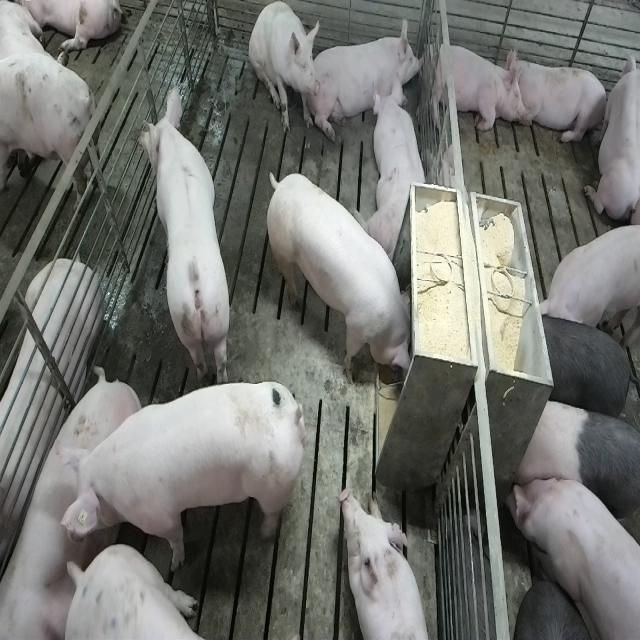Feeding: (271, 170, 421, 390)
Lateral_lying: (0, 367, 145, 640), (0, 256, 102, 582)
Sitting: (248, 2, 320, 138)
Standing: (64, 378, 309, 574), (138, 80, 232, 380), (503, 467, 638, 640), (513, 394, 638, 553), (0, 59, 104, 226), (54, 540, 228, 637), (533, 224, 637, 342), (533, 307, 638, 423)
Sternal_lying: (341, 489, 434, 640), (313, 19, 423, 136), (366, 77, 430, 258), (425, 36, 524, 136), (584, 42, 637, 225), (511, 52, 609, 148)
